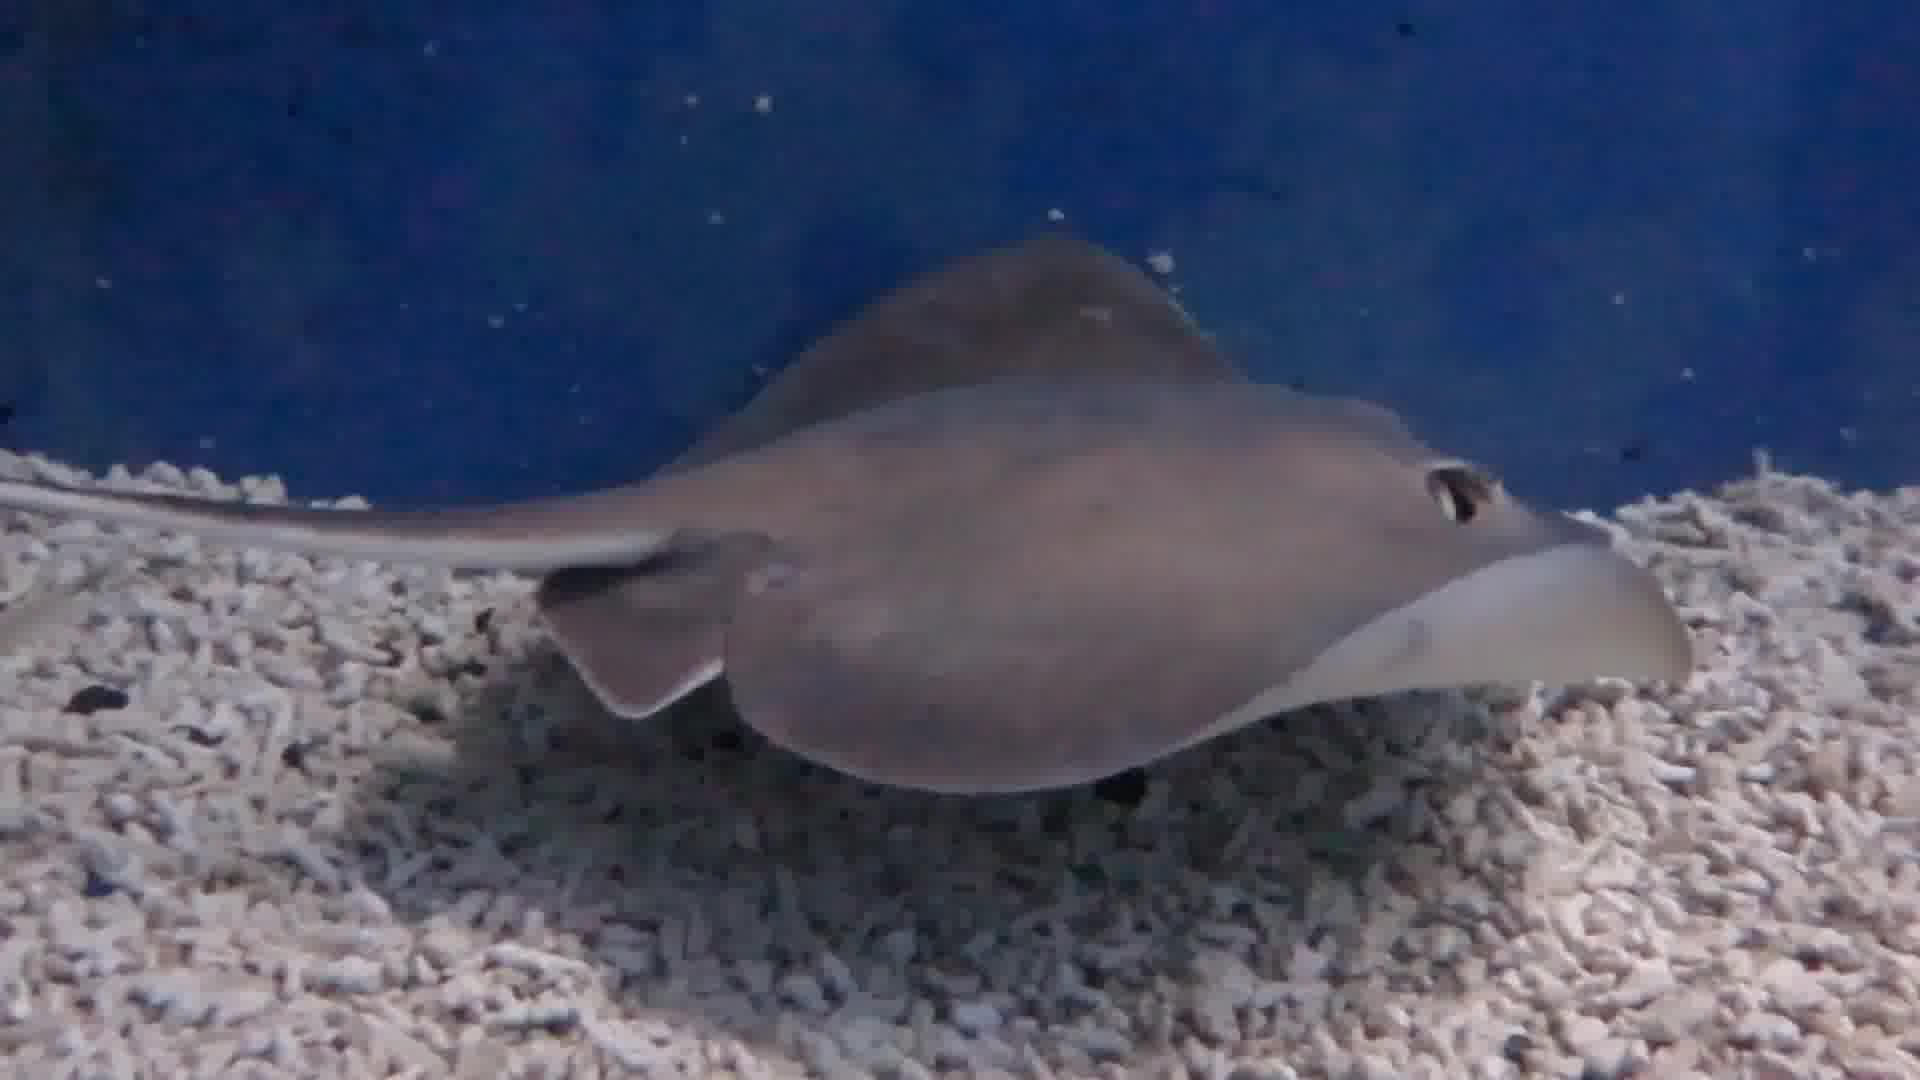Dasyatis bennetti: (477, 105, 1725, 947)
